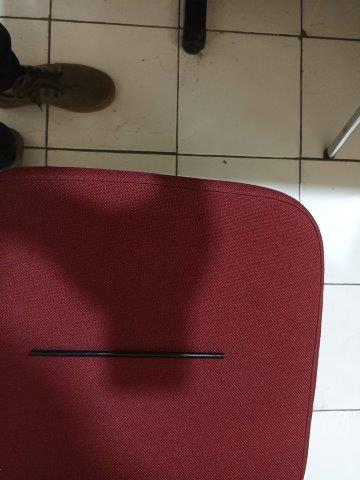sedotan: (29, 349, 225, 360)
